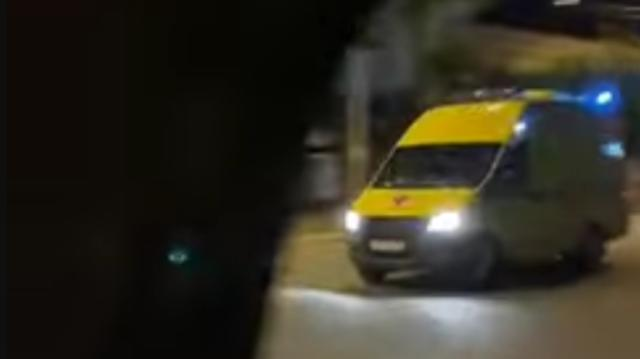intensive care unit: (340, 94, 630, 291)
